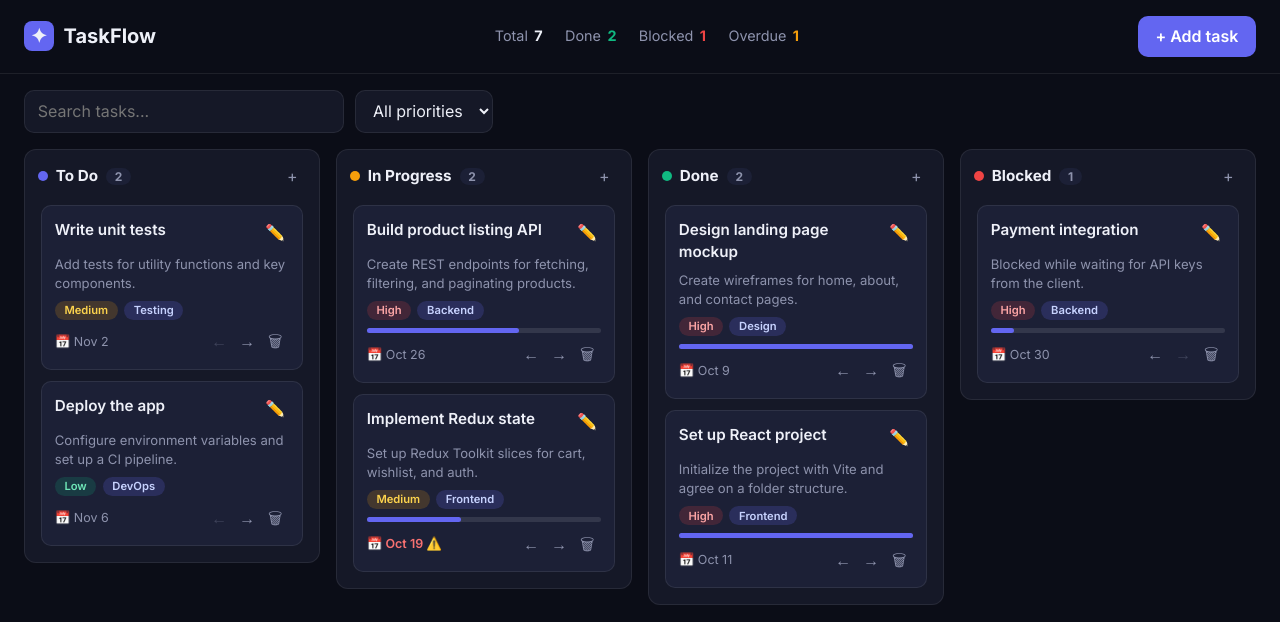
Test case: TaskFlow board › filters by search text and priority
Type "redux" into the search field labelled "Search tasks" at (184, 111), box [24,90,344,133]
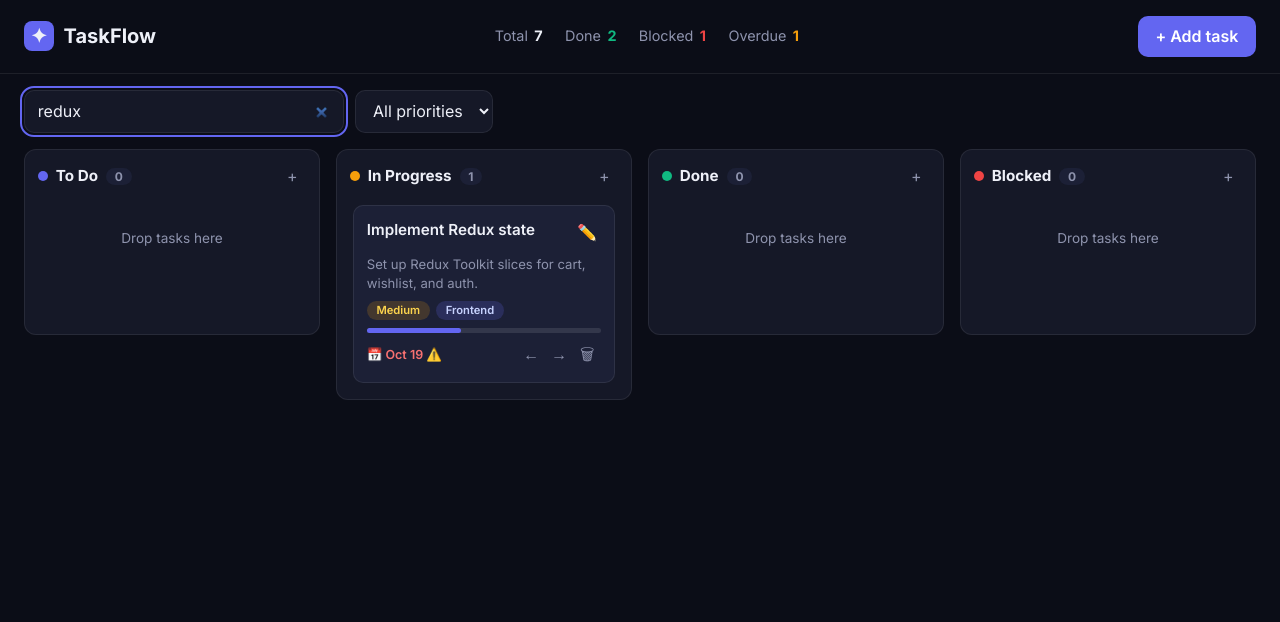
Check: the heading "Implement Redux state" is shown, box [367,218,535,240]
Check: the heading "Write unit tests" is gone
Clear the search field named "Search tasks" at (184, 111), box [24,90,344,133]
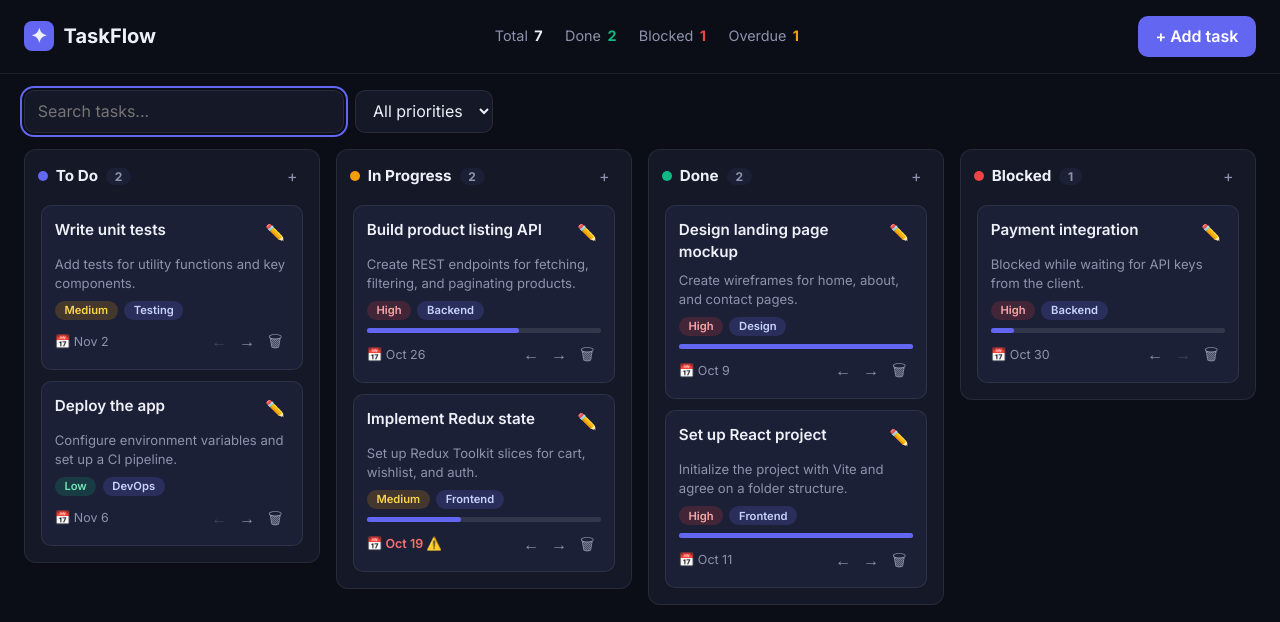
Select "🟢 Low" in the dropdown named "Filter by priority" at (424, 111), box [355,90,493,133]
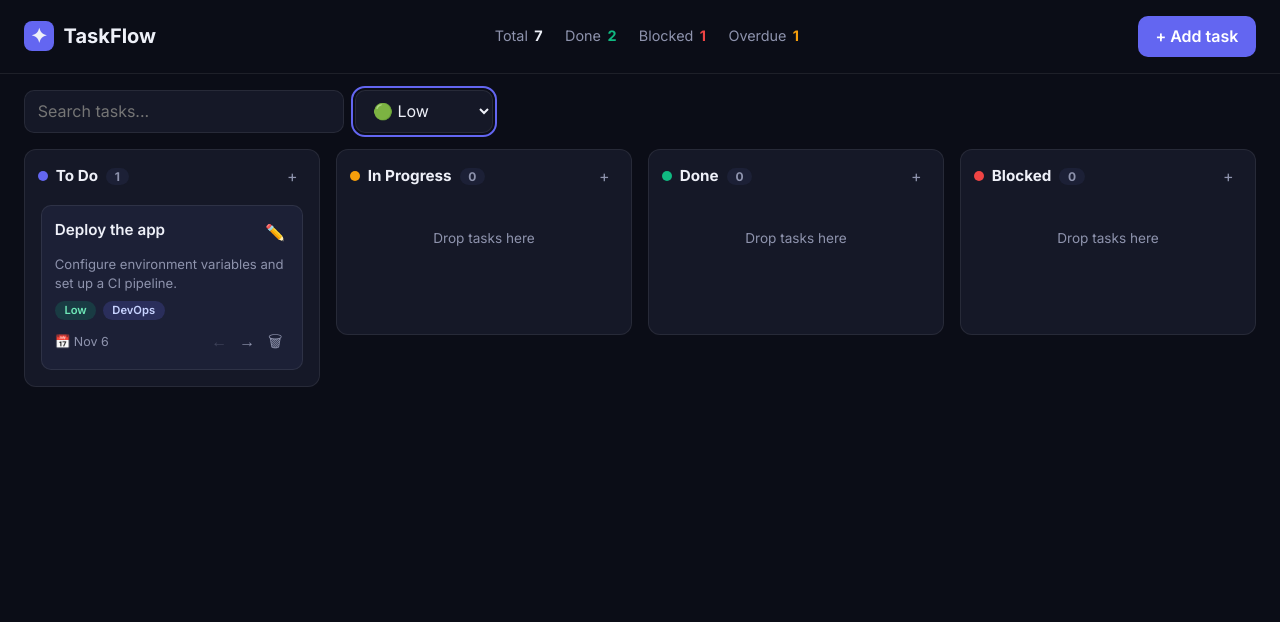
Check: the heading "Deploy the app" is shown, box [55,218,165,240]
Check: the heading "Write unit tests" is gone
